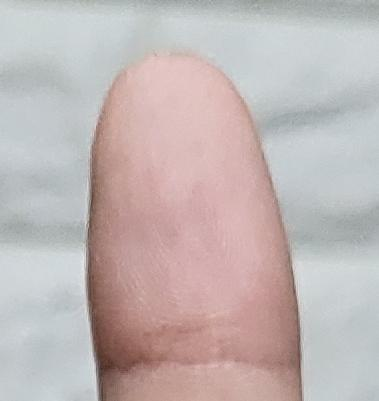Fingerprints: (90, 53, 300, 371)
